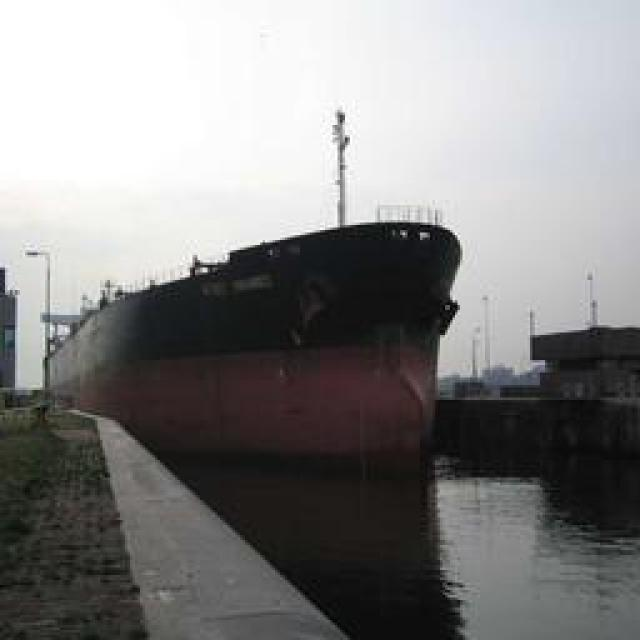Ship: (42, 204, 466, 472)
